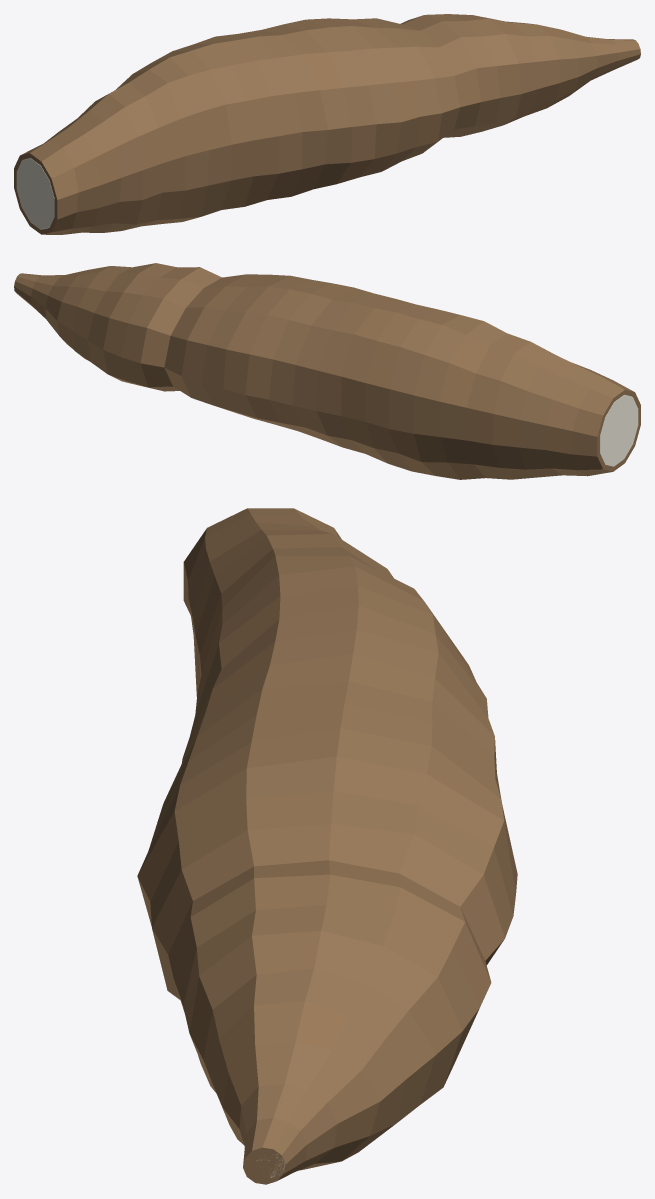
The model's file is yuka.fbx.
The picture shows the model from 3 angles, top to bottom: view 1: azimuth 30°, elevation 25°; view 2: azimuth 150°, elevation 25°; view 3: azimuth 270°, elevation 25°; orthographic projection. The views are drawn at different scales.
Visible parts, largest first — view 1: Yuca_Cascara, Yuca_Pulpa; view 2: Yuca_Cascara, Yuca_Pulpa; view 3: Yuca_Cascara.
Boxes of the visible parts, <box> form: Yuca_Cascara: <box>14,14,640,234</box>; Yuca_Pulpa: <box>16,158,54,229</box>; Yuca_Cascara: <box>14,263,640,479</box>; Yuca_Pulpa: <box>600,395,638,466</box>; Yuca_Cascara: <box>137,508,517,1184</box>.
Bounding box in the file's own units: 600 × 151 × 165.
